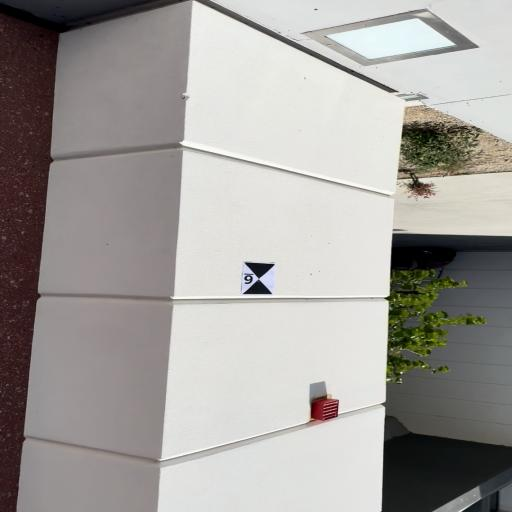target6: (241, 261, 277, 295)
